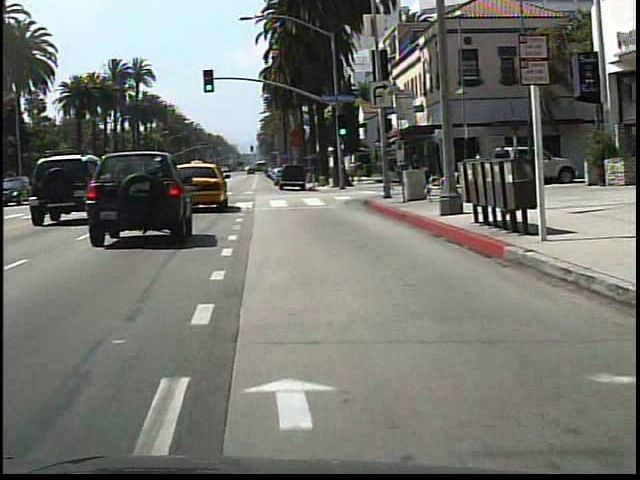person: (387, 151, 402, 194)
